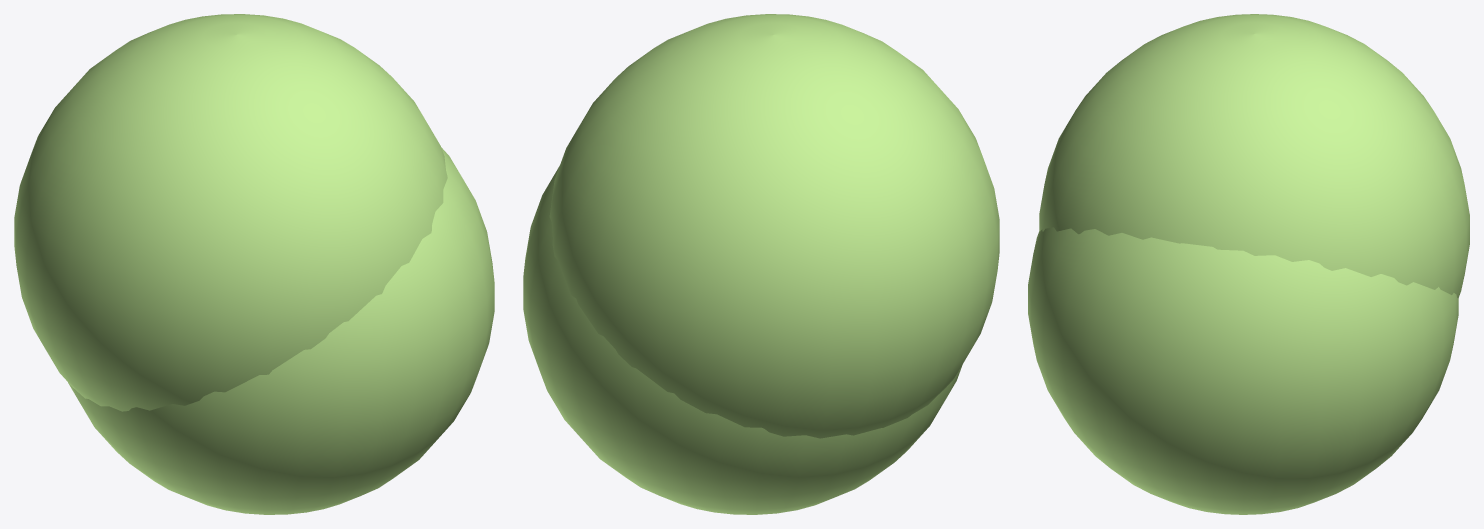
Rendered from fluorinefbx.fbx.
The picture shows the model from 3 angles, left to right: view 1: azimuth 30°, elevation 25°; view 2: azimuth 150°, elevation 25°; view 3: azimuth 270°, elevation 25°; orthographic projection. The views are drawn at different scales.
Visible parts, largest first — view 1: Fluorine_mesh|Fluorine_ball|Dupli|, Fluorine_ball; view 2: Fluorine_mesh|Fluorine_ball|Dupli|, Fluorine_ball; view 3: Fluorine_ball, Fluorine_mesh|Fluorine_ball|Dupli|.
Boxes of the visible parts, x1,y1,x2,y2 form: Fluorine_mesh|Fluorine_ball|Dupli|: (14, 14, 447, 411); Fluorine_ball: (68, 147, 494, 514); Fluorine_mesh|Fluorine_ball|Dupli|: (549, 14, 999, 438); Fluorine_ball: (523, 166, 962, 514); Fluorine_ball: (1028, 227, 1458, 514); Fluorine_mesh|Fluorine_ball|Dupli|: (1039, 14, 1469, 298).
Size of the model in its own units: 154 by 164 by 147.
